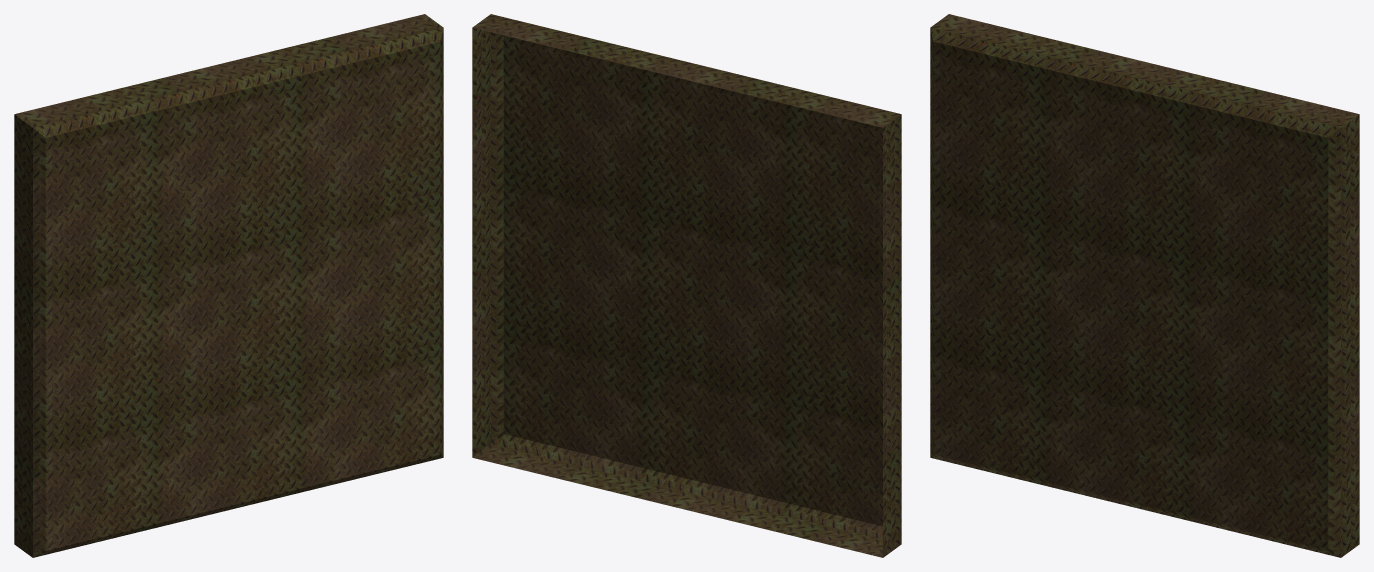
Rendered from block_wall_1_geo.fbx.
The picture shows the model from 3 angles, left to right: view 1: azimuth 30°, elevation 25°; view 2: azimuth 150°, elevation 25°; view 3: azimuth 330°, elevation 25°; orthographic projection.
Visible parts, largest first — view 1: block_wall_1_geo; view 2: block_wall_1_geo; view 3: block_wall_1_geo.
Part boxes in pixels (x1,y1,x2,y2): block_wall_1_geo: (14, 14, 443, 557); block_wall_1_geo: (472, 14, 901, 557); block_wall_1_geo: (930, 14, 1359, 557).
Bounding box in the file's own units: 696 × 696 × 68.69.
